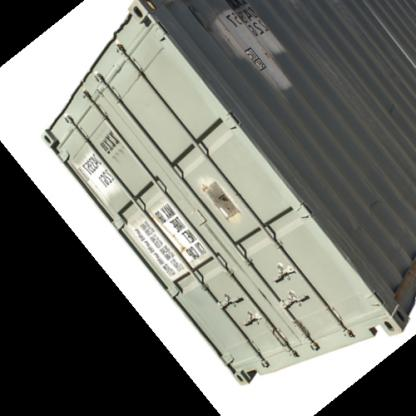Damage: (206, 1, 303, 96), (196, 172, 247, 224), (150, 210, 186, 254), (362, 188, 386, 213), (384, 95, 400, 131)
